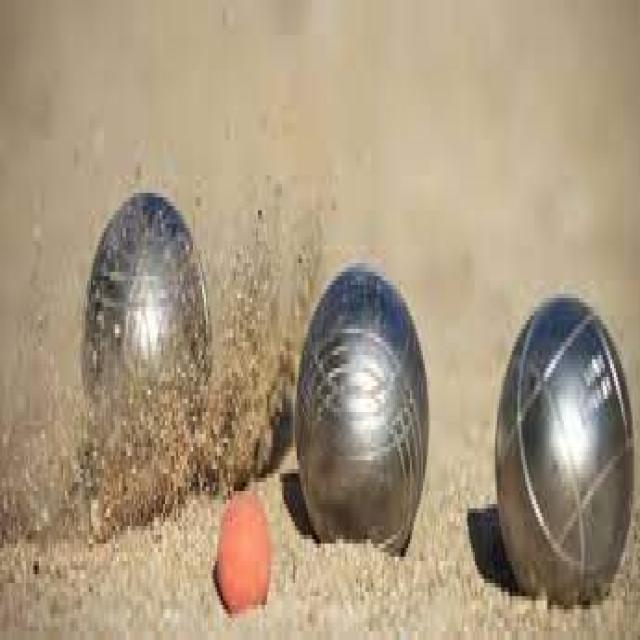hatball: (210, 480, 279, 626)
petanque: (490, 279, 638, 623), (290, 256, 432, 560), (72, 182, 214, 440)
